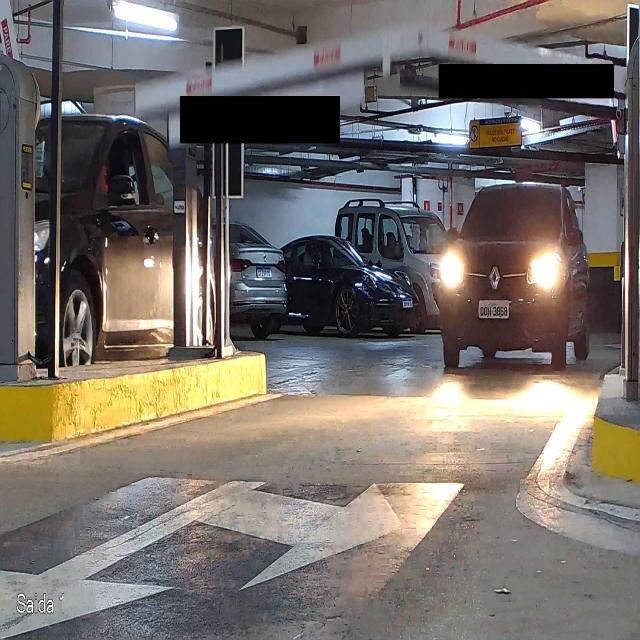old_plate: (478, 299, 511, 321)
